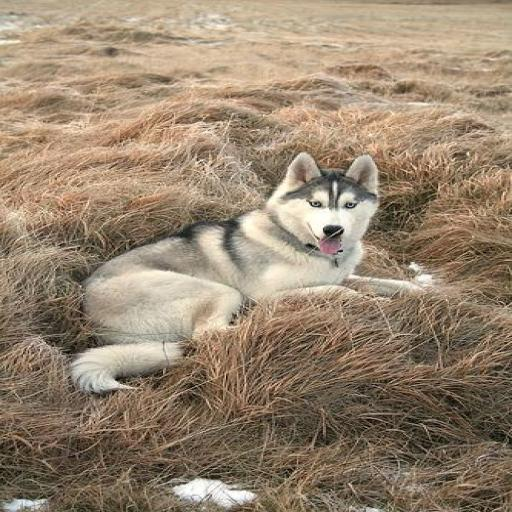dog_face: (279, 153, 378, 251)
